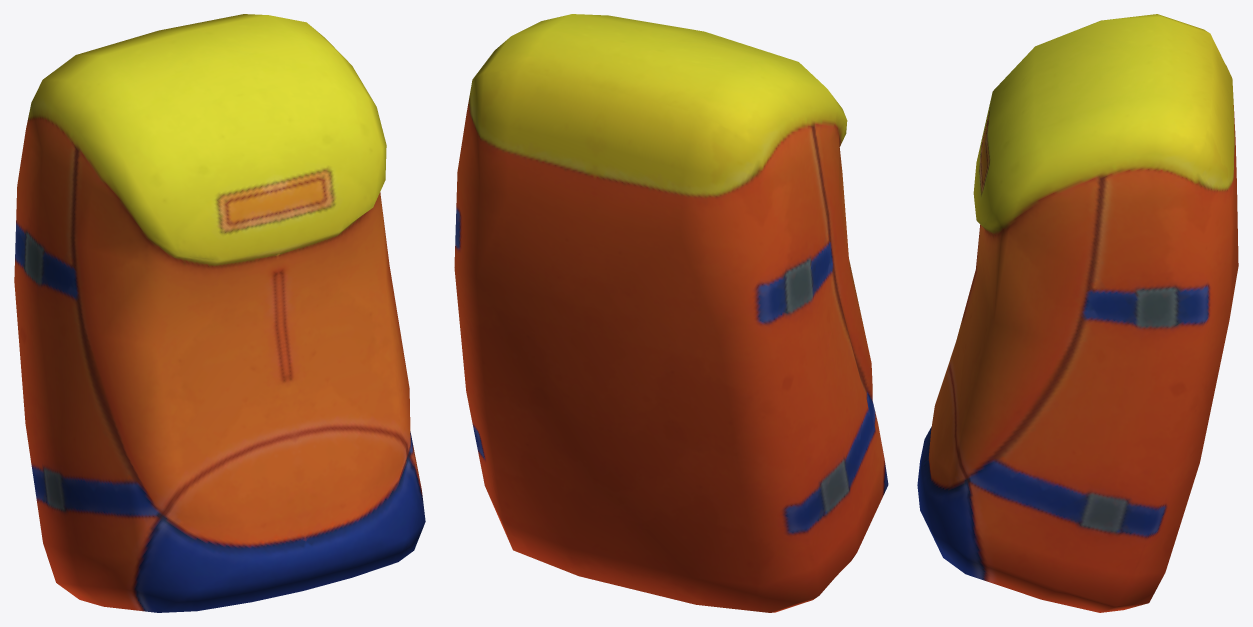
Rendered from IG_Backpack_LV4.fbx.
3 renders of one model, left to right at view 1: azimuth 30°, elevation 25°; view 2: azimuth 150°, elevation 25°; view 3: azimuth 270°, elevation 25°, orthographic. The views are drawn at different scales.
Visible parts, largest first — view 1: Backpack_LV4; view 2: Backpack_LV4; view 3: Backpack_LV4.
Boxes of the visible parts, x1,y1,x2,y2 form: Backpack_LV4: [14, 14, 425, 612]; Backpack_LV4: [454, 14, 888, 612]; Backpack_LV4: [917, 14, 1238, 612].
Size of the model in its own units: 0.4368 by 0.6757 by 0.387.
